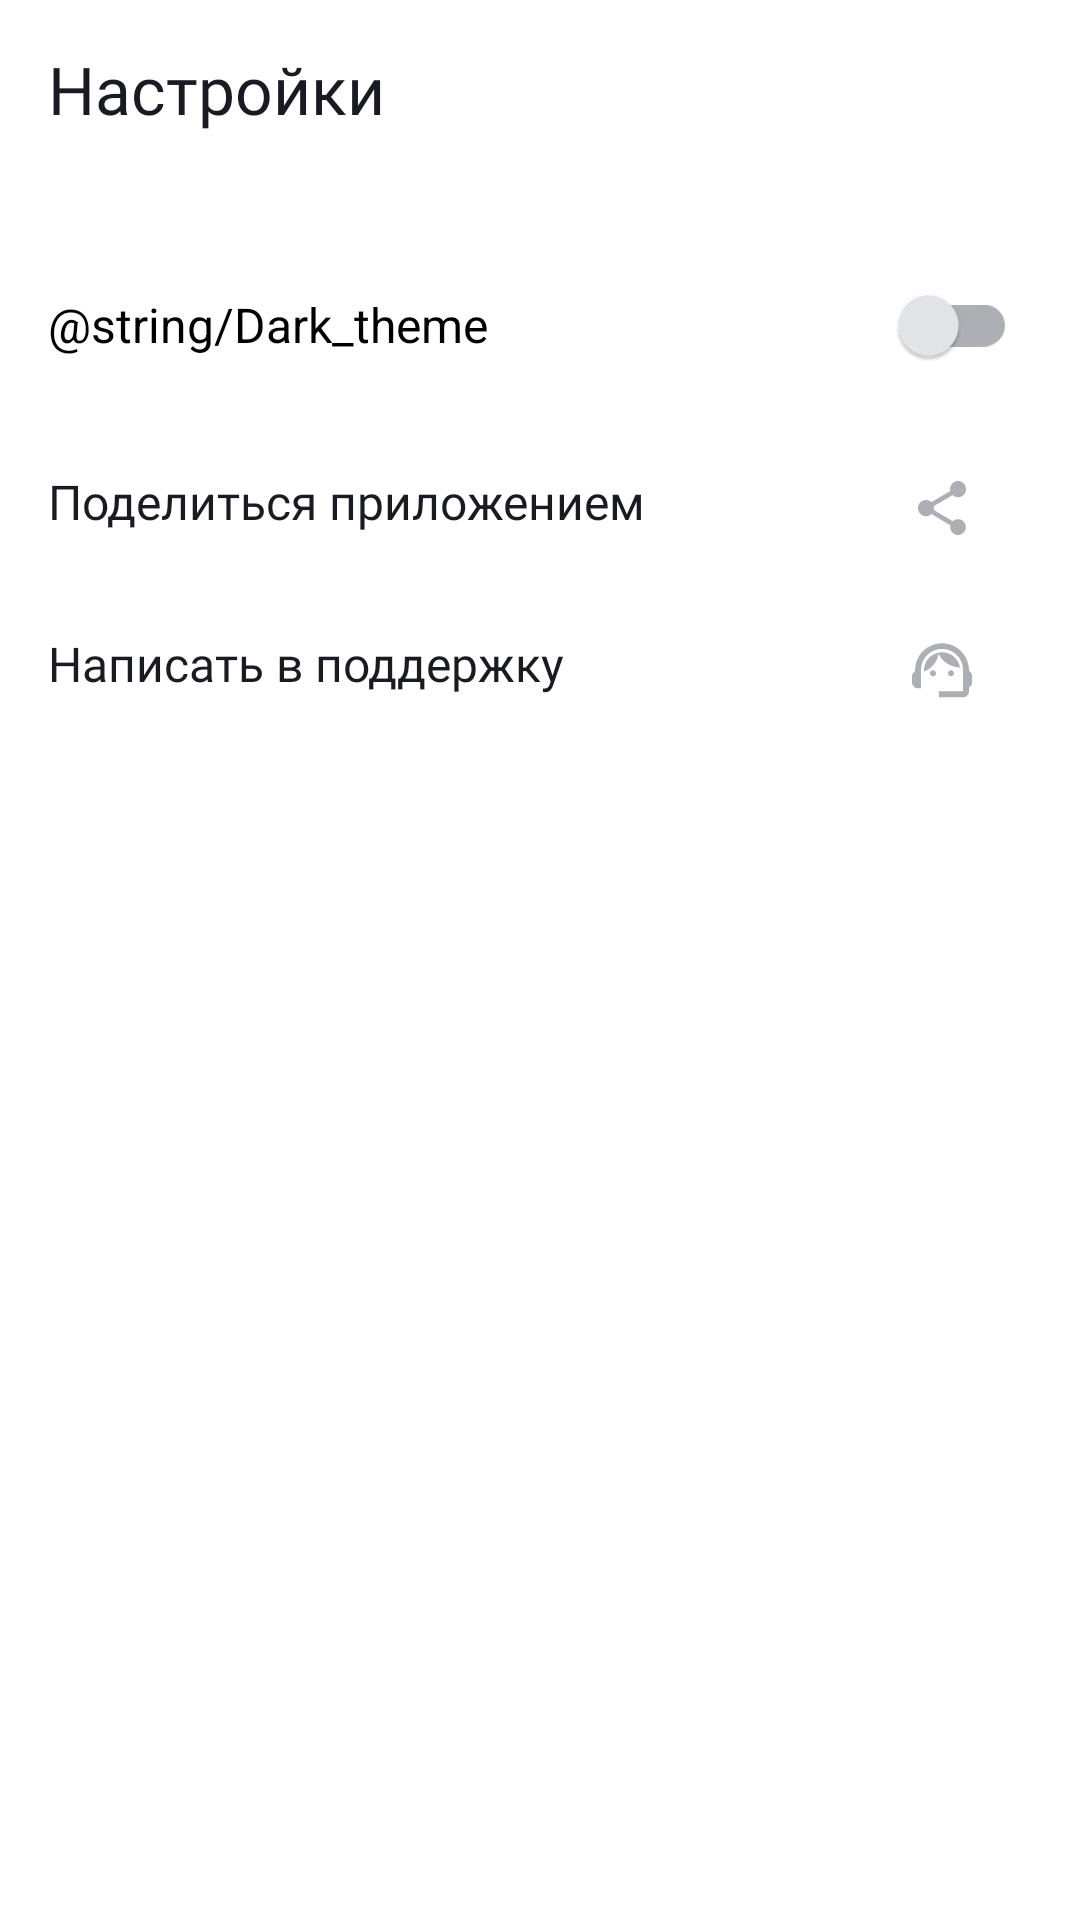

Icon bounding boxes for this 1080x1920 phone screenshot, format (x1, y1, x2, y2):
share app: (918, 481, 966, 535)
